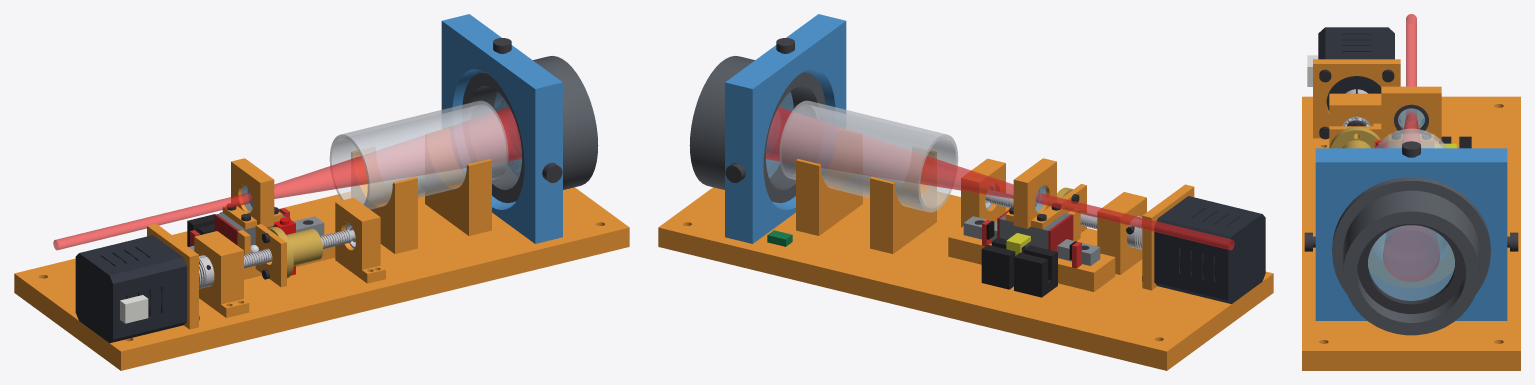
The model's file is z_axis_v0.4.glb.
The picture shows the model from 3 angles, left to right: view 1: azimuth 30°, elevation 25°; view 2: azimuth 150°, elevation 25°; view 3: azimuth 270°, elevation 25°; orthographic projection. The views are drawn at different scales.
Visible parts, largest first — view 1: Z01_ZBase, O01_XYMount, Z18_ShadeTube, Z13_Motor, R02_BeamExpand, O02_ObjTube, Z19_ShadeSaddle, Z10_BearingFix, Z11_BearingSup, Z04_LensHolder, R01_Beam, Z14_MotorMount (+6 smaller); view 2: Z01_ZBase, O01_XYMount, Z18_ShadeTube, Z13_Motor, R02_BeamExpand, Z19_ShadeSaddle, O02_ObjTube, Z04_LensHolder, Z10_BearingFix, Z22_Riser, R01_Beam, Z11_BearingSup (+10 smaller); view 3: Z01_ZBase, O01_XYMount, O02_ObjTube, O03_Objective, Z13_Motor, R02_BeamExpand, Z14_MotorMount, O04_ObjRing, Z04_LensHolder, Z10_BearingFix, Z19_ShadeSaddle, Z18_ShadeTube (+9 smaller).
Part boxes in pixels (x1,y1,x2,y2): Z01_ZBase: [14, 187, 629, 370]; O01_XYMount: [441, 14, 562, 243]; Z18_ShadeTube: [329, 100, 508, 209]; Z13_Motor: [75, 235, 186, 343]; R02_BeamExpand: [274, 107, 521, 198]; O02_ObjTube: [462, 56, 598, 203]; Z19_ShadeSaddle: [351, 148, 491, 253]; Z10_BearingFix: [194, 231, 249, 317]; Z11_BearingSup: [335, 197, 385, 283]; Z04_LensHolder: [222, 158, 282, 229]; R01_Beam: [53, 192, 252, 250]; Z14_MotorMount: [147, 223, 198, 329]; Z01_ZBase: [658, 187, 1273, 370]; O01_XYMount: [725, 14, 846, 243]; Z18_ShadeTube: [779, 100, 958, 212]; Z13_Motor: [1154, 196, 1265, 303]; R02_BeamExpand: [766, 107, 1013, 198]; Z19_ShadeSaddle: [796, 148, 936, 253]; O02_ObjTube: [689, 56, 825, 203]; Z04_LensHolder: [1005, 158, 1065, 229]; Z10_BearingFix: [1097, 192, 1146, 274]; Z22_Riser: [948, 226, 1115, 291]; R01_Beam: [1035, 192, 1234, 250]; Z11_BearingSup: [961, 158, 1009, 227]; Z01_ZBase: [1302, 96, 1520, 370]; O01_XYMount: [1315, 148, 1507, 320]; O02_ObjTube: [1332, 177, 1490, 335]; O03_Objective: [1368, 225, 1454, 300]; Z13_Motor: [1318, 27, 1394, 110]; R02_BeamExpand: [1383, 112, 1439, 281]; Z14_MotorMount: [1313, 59, 1400, 138]; O04_ObjRing: [1357, 224, 1465, 313]; Z04_LensHolder: [1381, 86, 1441, 145]; Z10_BearingFix: [1318, 93, 1381, 148]; Z19_ShadeSaddle: [1368, 248, 1454, 287]; Z18_ShadeTube: [1375, 128, 1447, 148].
Size of the model in its own units: 225 by 76 by 80.
